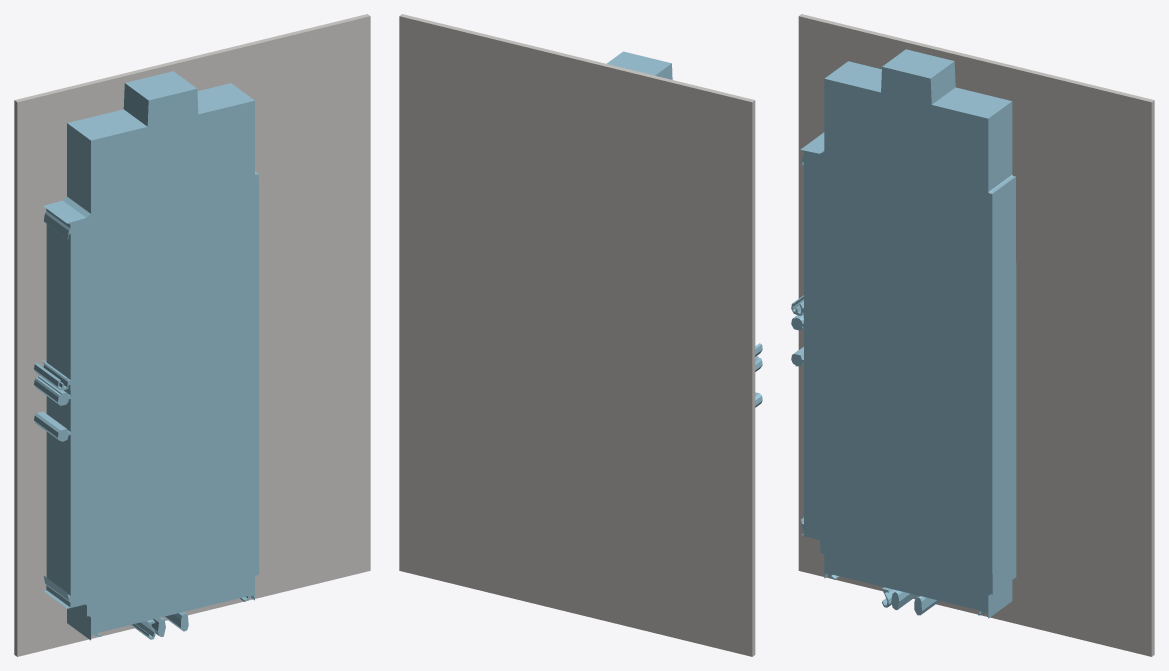
The picture shows the model from 3 angles, left to right: view 1: azimuth 30°, elevation 25°; view 2: azimuth 150°, elevation 25°; view 3: azimuth 330°, elevation 25°; orthographic projection.
Visible parts, largest first — view 1: world; view 2: world; view 3: world.
Part boxes in pixels (left/top/right/bottom): world: left=14, top=14, right=370, bottom=656; world: left=399, top=14, right=762, bottom=656; world: left=791, top=14, right=1154, bottom=656.
Size of the model in its own units: 10.23 by 15.35 by 1.35.
